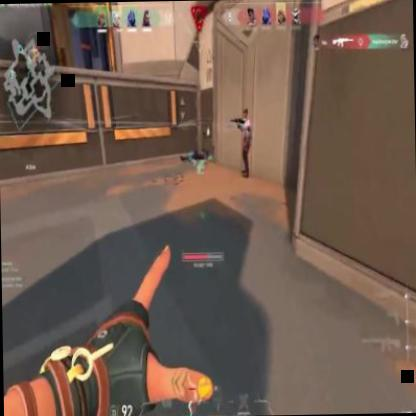enemy: (238, 107, 252, 176)
enemy_head: (242, 107, 248, 122)
